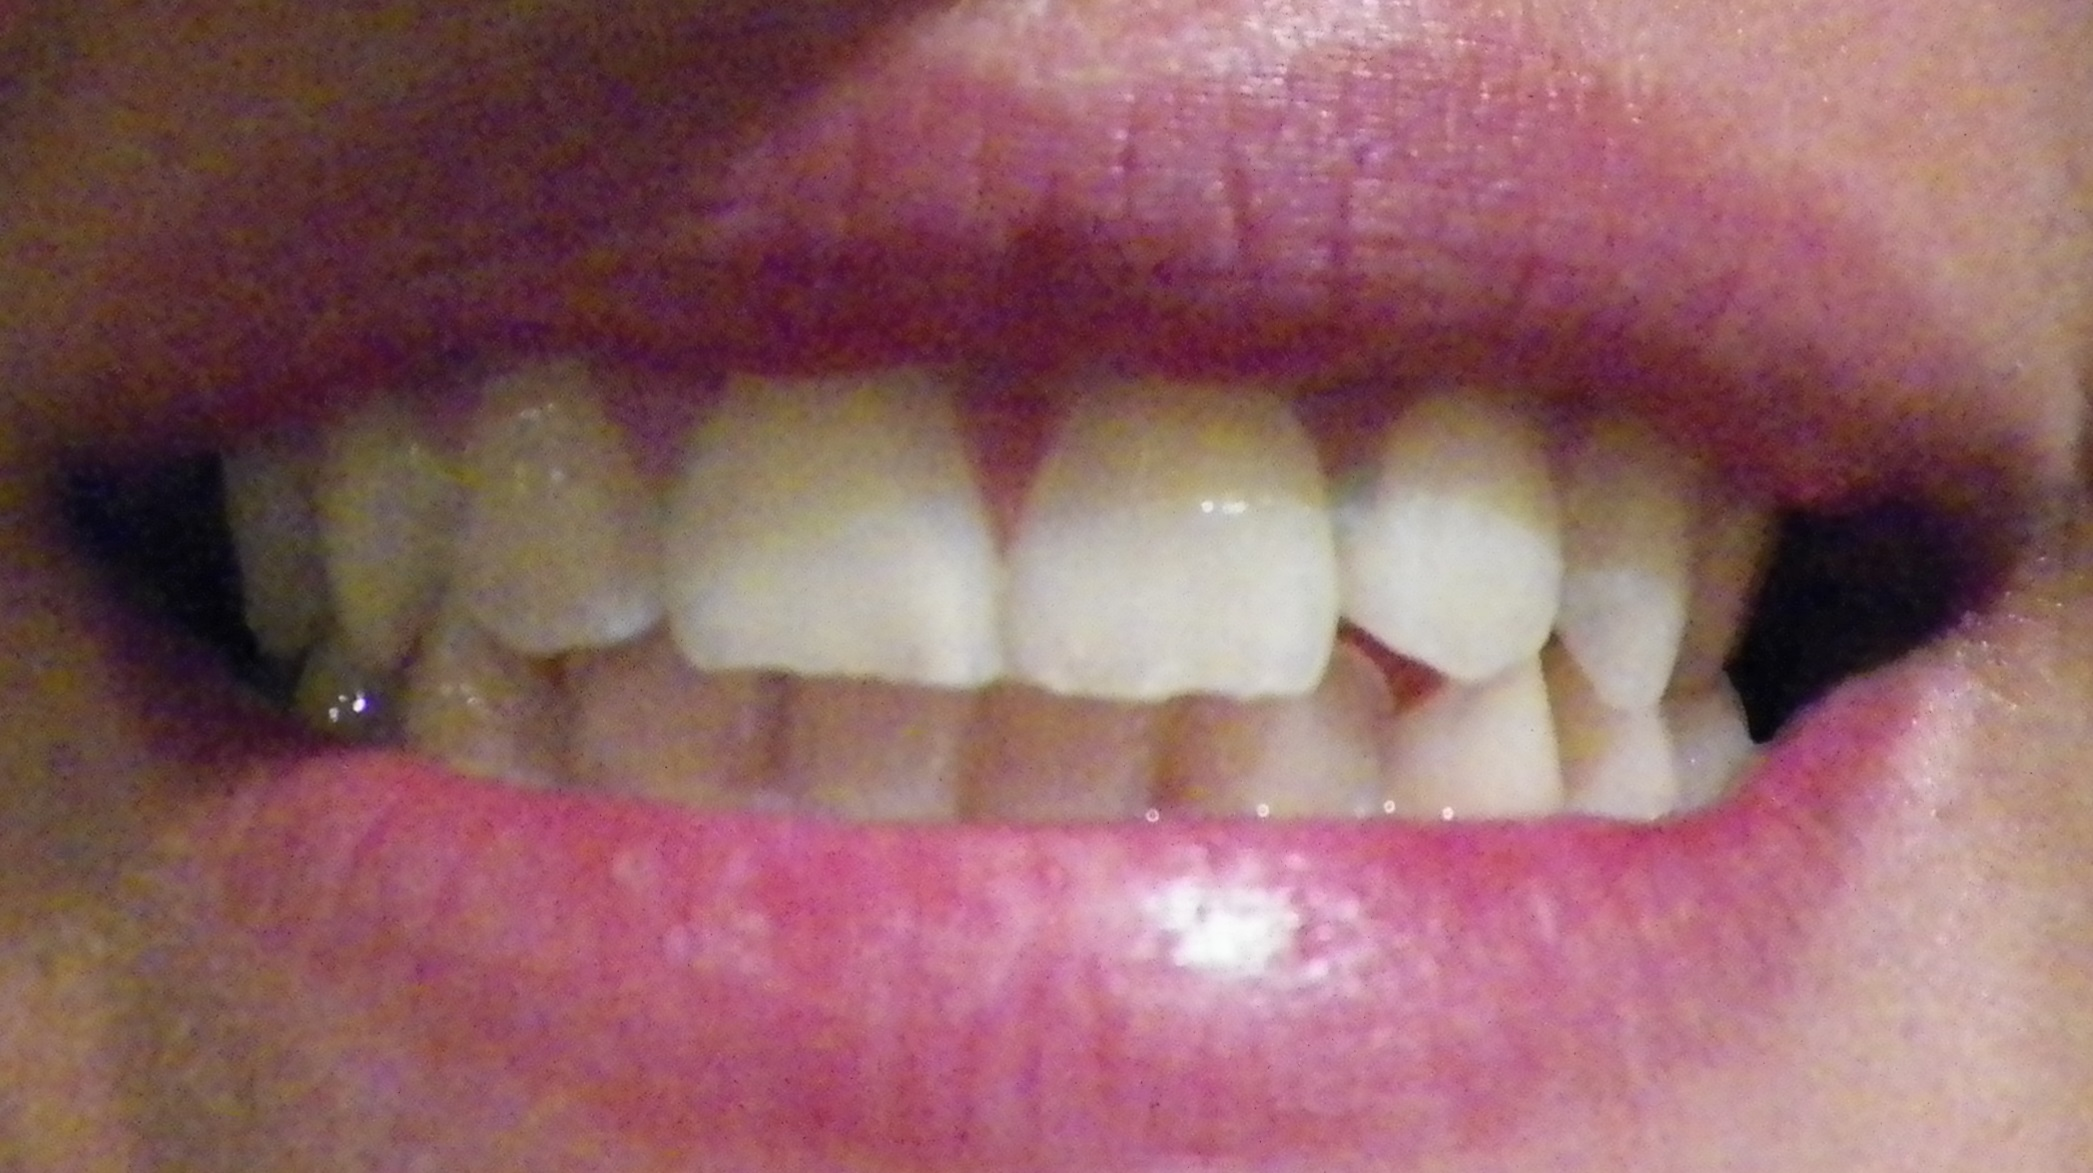boca: (206, 391, 1805, 809)
